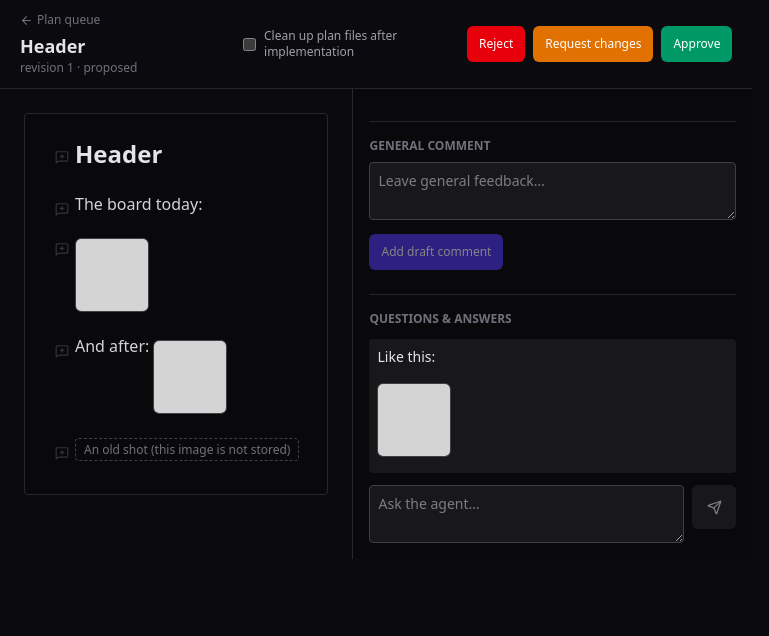
Test: PlanPage with image files › lets the person comment on an image as on any block, and names it by its alt text
The width and height of the screenshot is (769, 636).
Click the button named "Comment on image The board today" at (62, 249), box [51, 238, 73, 260]
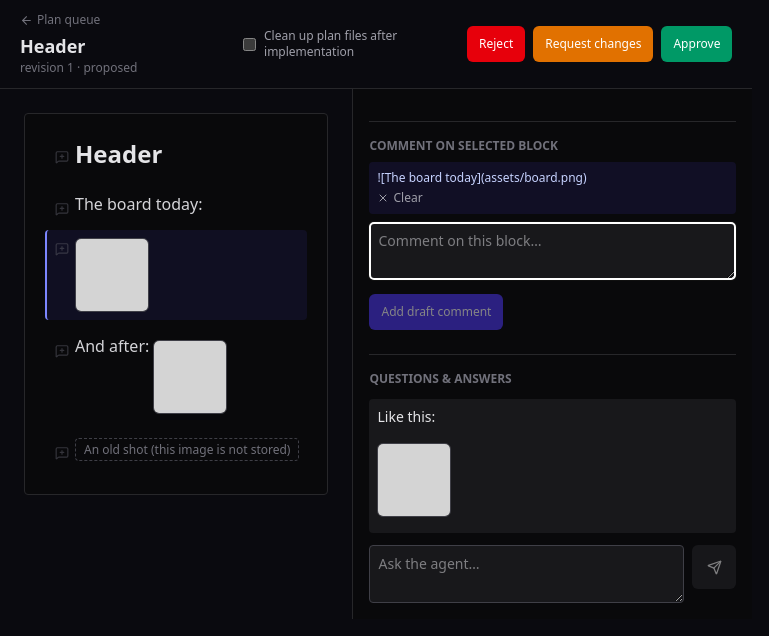
expect the text box named "Comment on selected block" is shown: met, box [370, 222, 736, 280]
